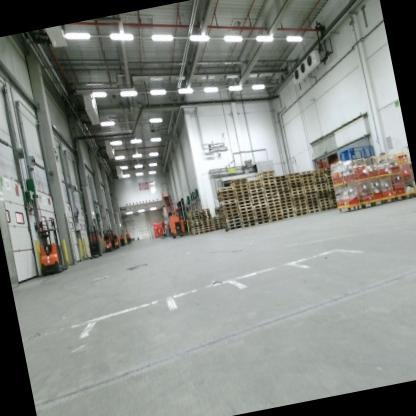pallet: (255, 167, 275, 178), (219, 201, 238, 210), (216, 185, 234, 194), (216, 190, 234, 199), (224, 225, 243, 233), (229, 176, 248, 184), (256, 172, 275, 180), (216, 188, 234, 196), (217, 194, 235, 202), (218, 198, 236, 206), (219, 205, 238, 212), (223, 221, 242, 228), (228, 179, 247, 186), (221, 211, 239, 218), (222, 215, 240, 222), (223, 218, 241, 225), (221, 208, 239, 214), (241, 218, 256, 225), (240, 212, 255, 219), (238, 205, 253, 212), (250, 196, 265, 203), (253, 206, 268, 213), (286, 173, 301, 180), (287, 179, 302, 186), (290, 191, 305, 198), (294, 207, 308, 214), (234, 193, 250, 199), (233, 187, 249, 193), (232, 183, 248, 189), (247, 177, 263, 183), (251, 200, 267, 206), (299, 169, 312, 176), (239, 209, 254, 215), (236, 199, 251, 205), (236, 196, 251, 202), (234, 190, 249, 196), (261, 175, 276, 181), (262, 181, 277, 187), (247, 181, 262, 187), (248, 184, 263, 190), (249, 187, 264, 193), (250, 190, 265, 196), (254, 210, 269, 216), (256, 219, 271, 225), (191, 230, 205, 236), (262, 178, 276, 184), (264, 191, 278, 197), (266, 197, 280, 203), (267, 200, 281, 206), (269, 213, 283, 219), (279, 201, 293, 207), (251, 193, 265, 199), (255, 213, 269, 219), (256, 216, 270, 222), (292, 195, 306, 201), (293, 201, 307, 207), (185, 208, 198, 214), (266, 194, 279, 200), (282, 210, 295, 216), (281, 207, 294, 213), (280, 204, 293, 210), (275, 180, 288, 186), (274, 174, 287, 180), (290, 185, 303, 191), (293, 198, 306, 204), (307, 205, 320, 211), (304, 187, 317, 193), (316, 190, 329, 196), (241, 216, 256, 221), (252, 204, 267, 209), (294, 211, 309, 216), (279, 192, 291, 198), (278, 189, 290, 195), (306, 198, 318, 204), (301, 175, 313, 181), (312, 167, 324, 173), (313, 176, 325, 182), (242, 222, 256, 227), (238, 203, 252, 208), (263, 185, 277, 190), (264, 188, 278, 193), (279, 198, 293, 203), (276, 186, 290, 191), (286, 171, 300, 176), (290, 189, 304, 194), (293, 204, 307, 209), (186, 211, 199, 216), (187, 213, 200, 218), (187, 216, 200, 221), (188, 219, 201, 224), (190, 225, 203, 230), (197, 207, 210, 212), (268, 204, 281, 209), (269, 207, 282, 212), (269, 210, 282, 215), (270, 217, 283, 222), (276, 183, 289, 188), (290, 183, 303, 188), (305, 196, 318, 201), (302, 182, 315, 187), (318, 206, 331, 211), (190, 223, 202, 228), (200, 214, 212, 219), (210, 214, 222, 219), (283, 214, 295, 219), (275, 177, 287, 182), (308, 209, 320, 214), (305, 193, 317, 198), (305, 190, 317, 195), (303, 185, 315, 190), (315, 185, 327, 190), (317, 194, 329, 199), (319, 202, 331, 207), (287, 178, 301, 182), (202, 221, 213, 226), (213, 223, 224, 228), (307, 202, 318, 207), (302, 179, 313, 184), (301, 173, 312, 178), (313, 173, 324, 178), (315, 182, 326, 187), (318, 197, 329, 202), (319, 200, 330, 205), (328, 190, 337, 196), (189, 221, 202, 225), (191, 228, 204, 232), (200, 217, 212, 221), (199, 212, 211, 216), (279, 196, 291, 200), (312, 171, 324, 175), (314, 180, 326, 184), (316, 188, 328, 192), (203, 228, 214, 232), (203, 226, 214, 230), (202, 224, 213, 228), (199, 210, 210, 214), (211, 217, 222, 221), (212, 219, 223, 223), (214, 226, 225, 230), (329, 194, 336, 200), (202, 219, 212, 223), (213, 221, 223, 225), (331, 198, 337, 204), (327, 184, 334, 189), (326, 175, 333, 180), (325, 169, 332, 174), (325, 166, 332, 171), (328, 187, 336, 191), (326, 178, 334, 182), (327, 181, 333, 186), (332, 205, 339, 209), (325, 173, 332, 176), (332, 203, 338, 206)
pallet_truck: (28, 207, 71, 276), (83, 220, 104, 263), (99, 224, 116, 255), (107, 229, 122, 254), (124, 231, 132, 247), (116, 234, 125, 248)
